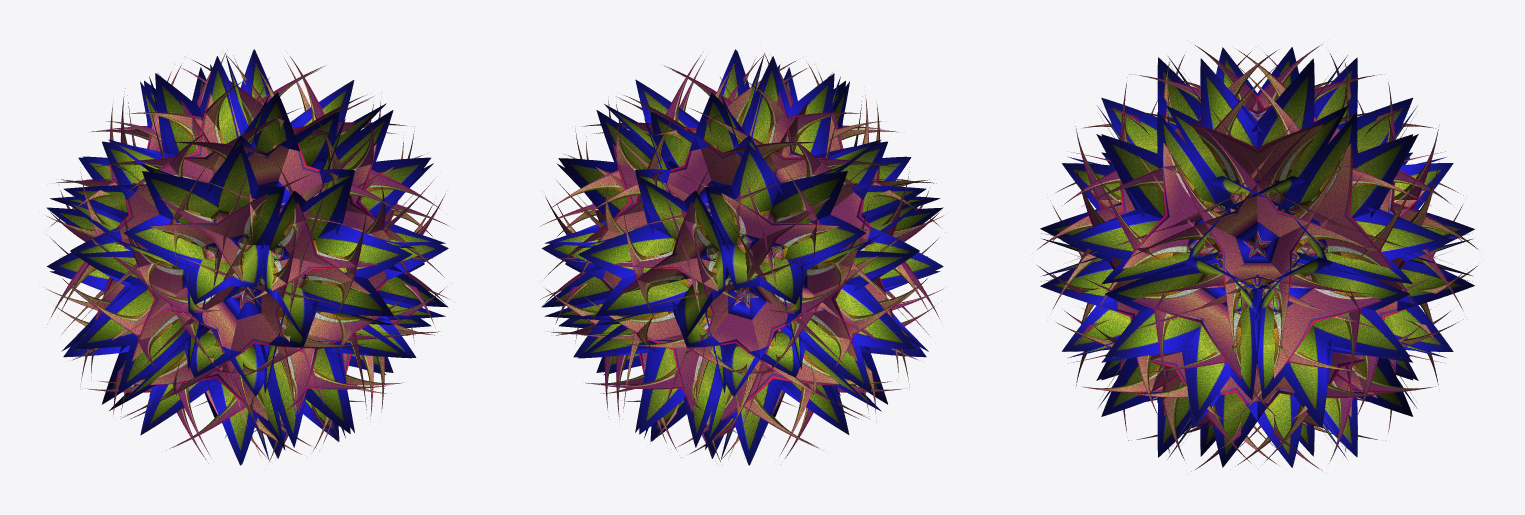
Rendered from 1GreatRhombidodecahedron.gltf.
The picture shows the model from 3 angles, left to right: view 1: azimuth 30°, elevation 25°; view 2: azimuth 150°, elevation 25°; view 3: azimuth 270°, elevation 25°; orthographic projection. The views are drawn at different scales.
Parts seen in each view (by area): view 1: 1GreatRhombidodecahedron; view 2: 1GreatRhombidodecahedron; view 3: 1GreatRhombidodecahedron.
Part boxes in pixels (left/top/right/bottom): 1GreatRhombidodecahedron: left=46, top=49, right=449, bottom=465; 1GreatRhombidodecahedron: left=540, top=49, right=943, bottom=465; 1GreatRhombidodecahedron: left=1037, top=43, right=1478, bottom=471.
Size of the model in its own units: 1.38 by 1.38 by 1.38.
1 material, 1 textured.
